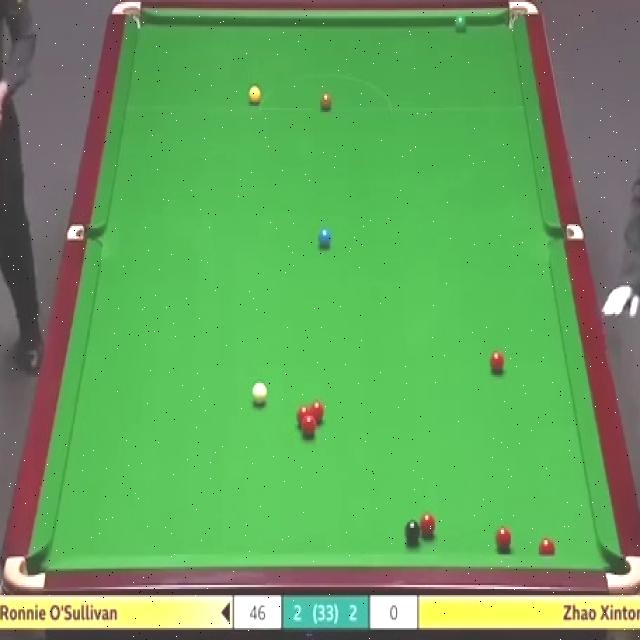black-ball: (406, 520, 420, 548)
blue-ball: (316, 229, 332, 247)
brown-ball: (320, 89, 332, 110)
green-ball: (454, 12, 465, 31)
red-ball: (418, 513, 436, 541), (296, 405, 311, 431), (489, 350, 504, 376), (495, 528, 513, 549), (536, 536, 558, 552), (302, 418, 318, 438), (311, 401, 324, 425)
white-ball: (250, 381, 268, 403)
yellow-ball: (248, 88, 260, 104)
